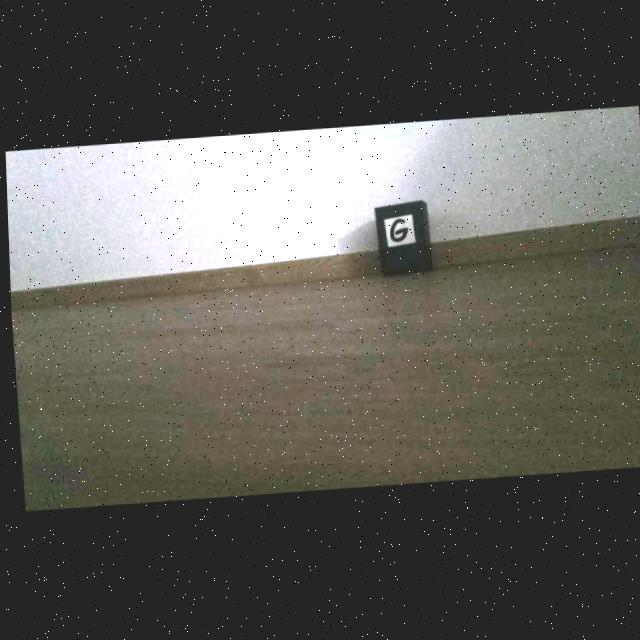G: (388, 222, 407, 244)
